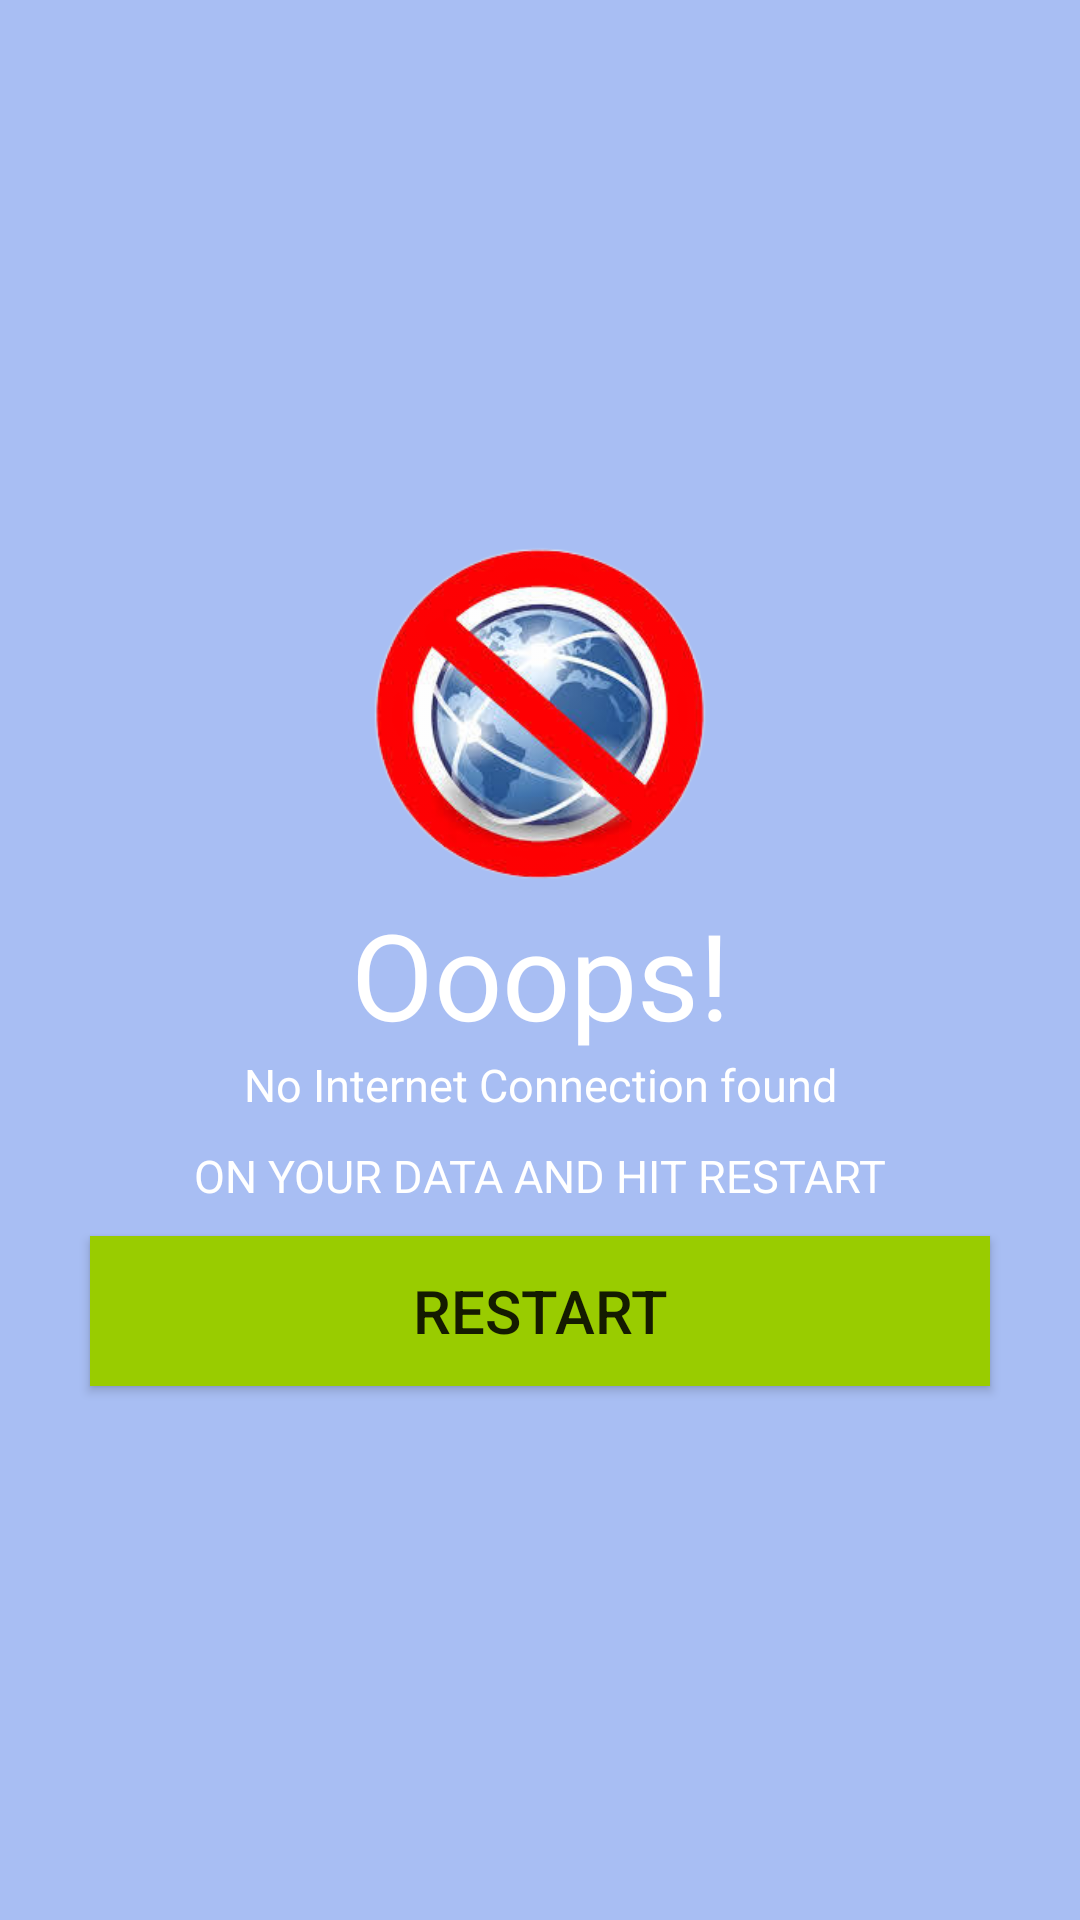

Icon bounding boxes for this 1080px x 1920px phone screenshot, format (x1=x1, y1=y1, x2=x2, y2=y2):
nointernet: (x1=375, y1=549, x2=704, y2=878)
